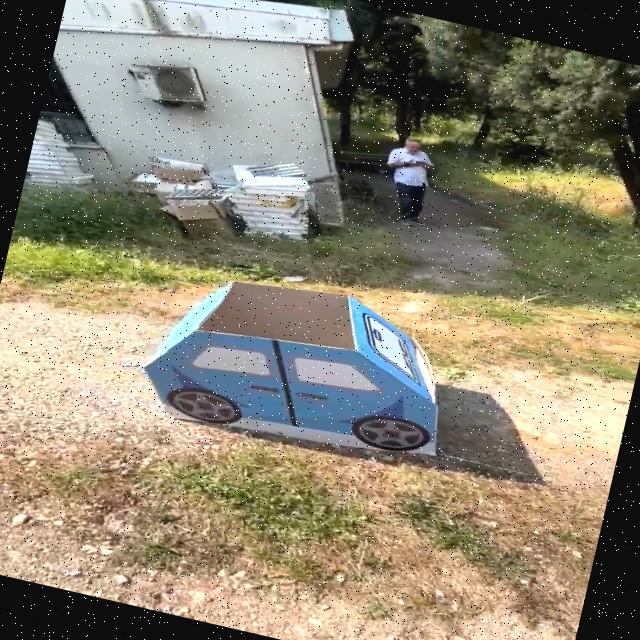blue_car: (104, 241, 495, 497)
